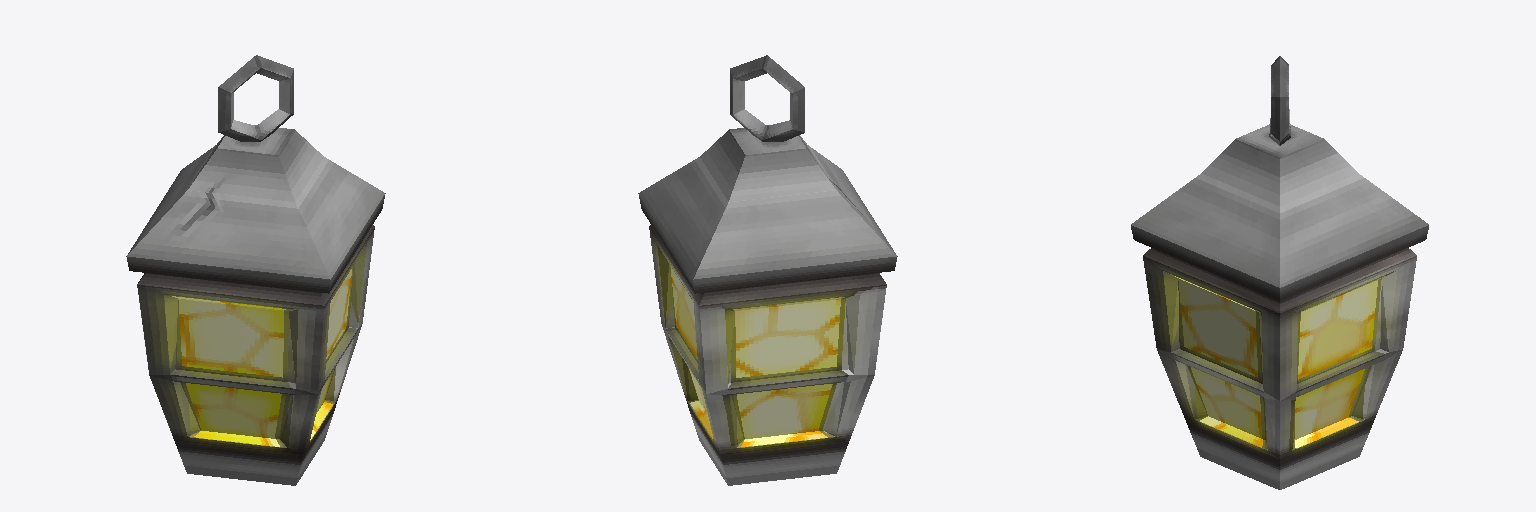
The picture shows the model from 3 angles: view 1: azimuth 30°, elevation 25°; view 2: azimuth 150°, elevation 25°; view 3: azimuth 270°, elevation 25°; orthographic projection.
Visible parts, largest first — view 1: PVP_Lantern_Model:polySurface7; view 2: PVP_Lantern_Model:polySurface7; view 3: PVP_Lantern_Model:polySurface7.
Boxes of the visible parts, x1,y1,x2,y2 form: PVP_Lantern_Model:polySurface7: [126, 55, 385, 485]; PVP_Lantern_Model:polySurface7: [638, 55, 897, 485]; PVP_Lantern_Model:polySurface7: [1131, 56, 1428, 489].
Size of the model in its own units: 1.5 by 2.22 by 1.5.
Materials: 1 (1 with a texture image).